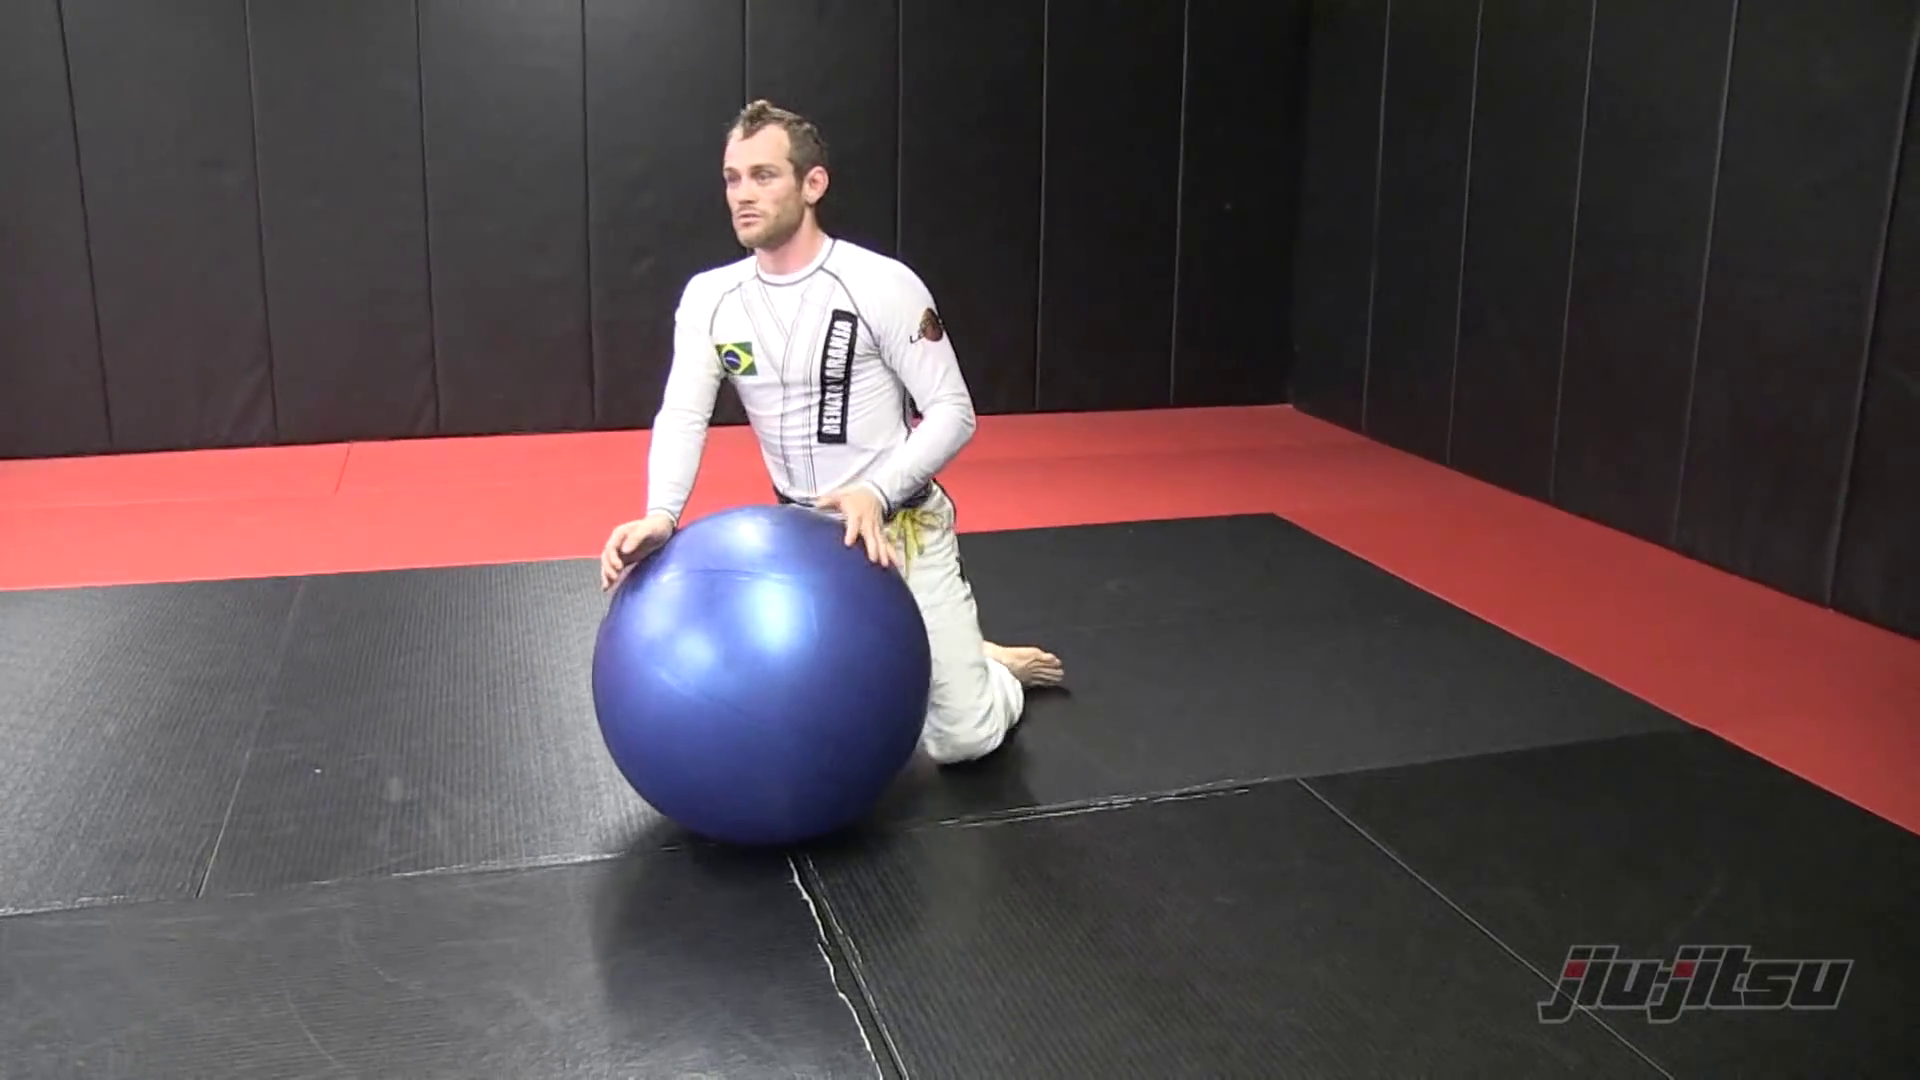yogaball: (560, 489, 963, 870)
